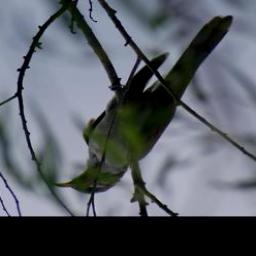Cuckoo: (55, 13, 243, 195)
